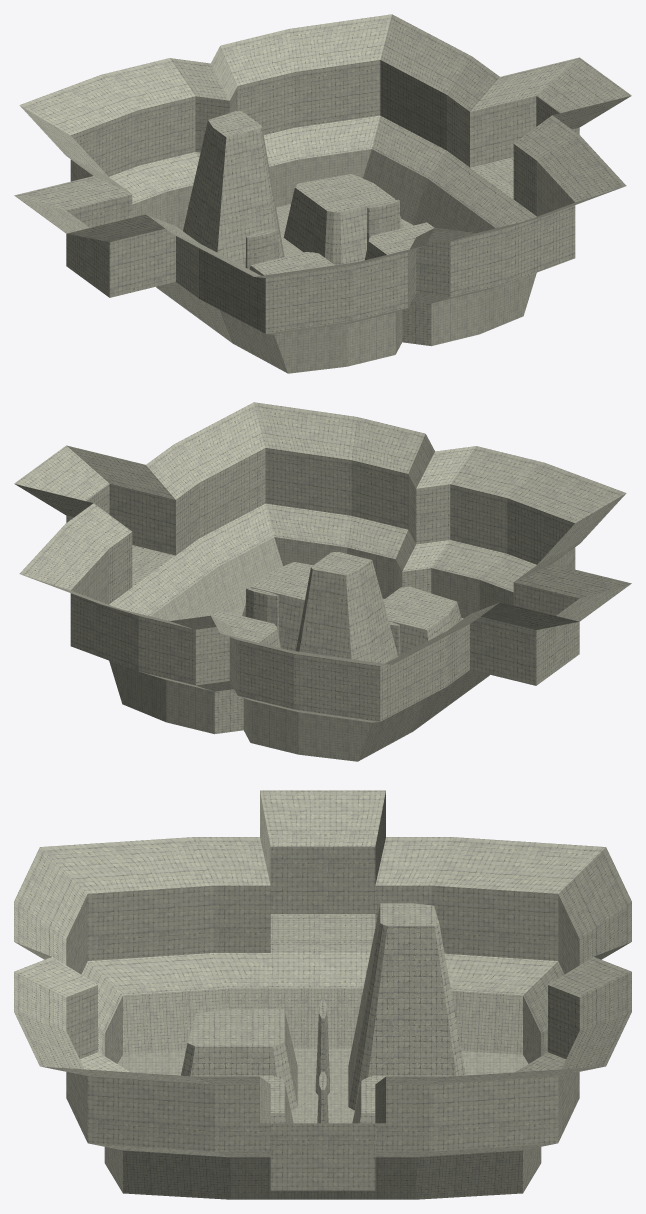
The model's file is SM_TheSamePlace_07_Block_00.fbx.
3 views of the same model, one above another, from view 1: azimuth 30°, elevation 25°; view 2: azimuth 150°, elevation 25°; view 3: azimuth 270°, elevation 25° (orthographic). The views are drawn at different scales.
Visible parts, largest first — view 1: SM_TheSamePlace_07_Block_00; view 2: SM_TheSamePlace_07_Block_00; view 3: SM_TheSamePlace_07_Block_00.
Part boxes in pixels (box(x1,y1,x2,y2)): SM_TheSamePlace_07_Block_00: box(14, 14, 631, 373); SM_TheSamePlace_07_Block_00: box(14, 402, 631, 761); SM_TheSamePlace_07_Block_00: box(14, 790, 631, 1199).
Bounding box in the file's own units: 7932 × 1976 × 6220.
